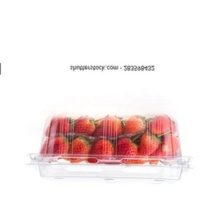plastic_box: (18, 106, 198, 193)
